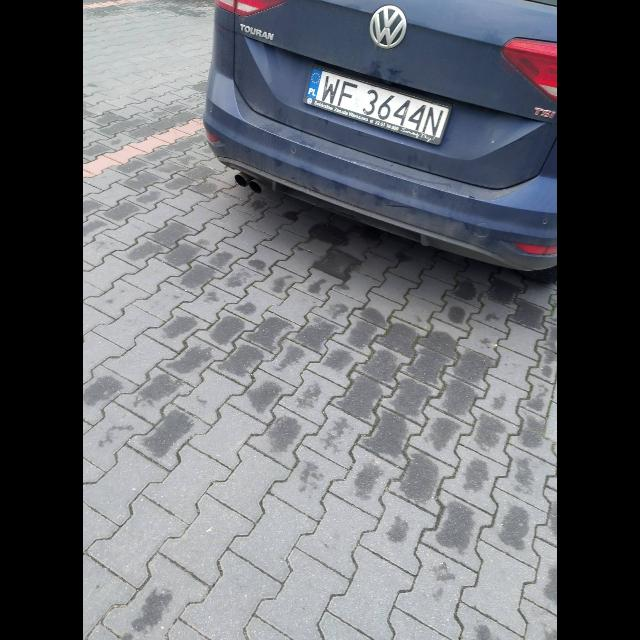pl_license_plate: (306, 67, 448, 137)
